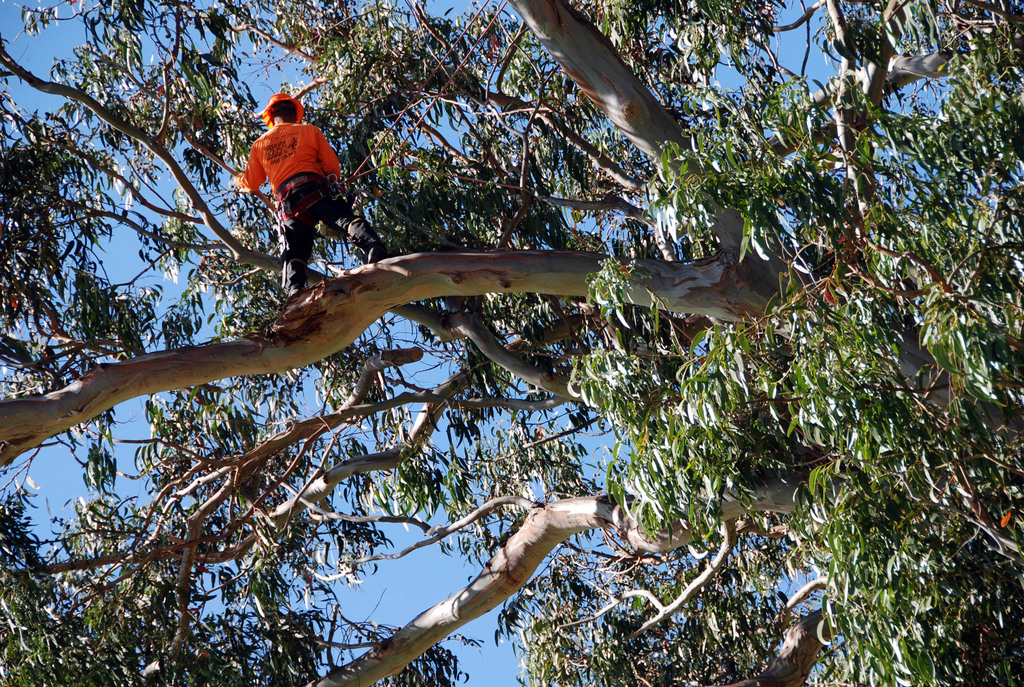Tree: (0, 0, 1022, 687)
